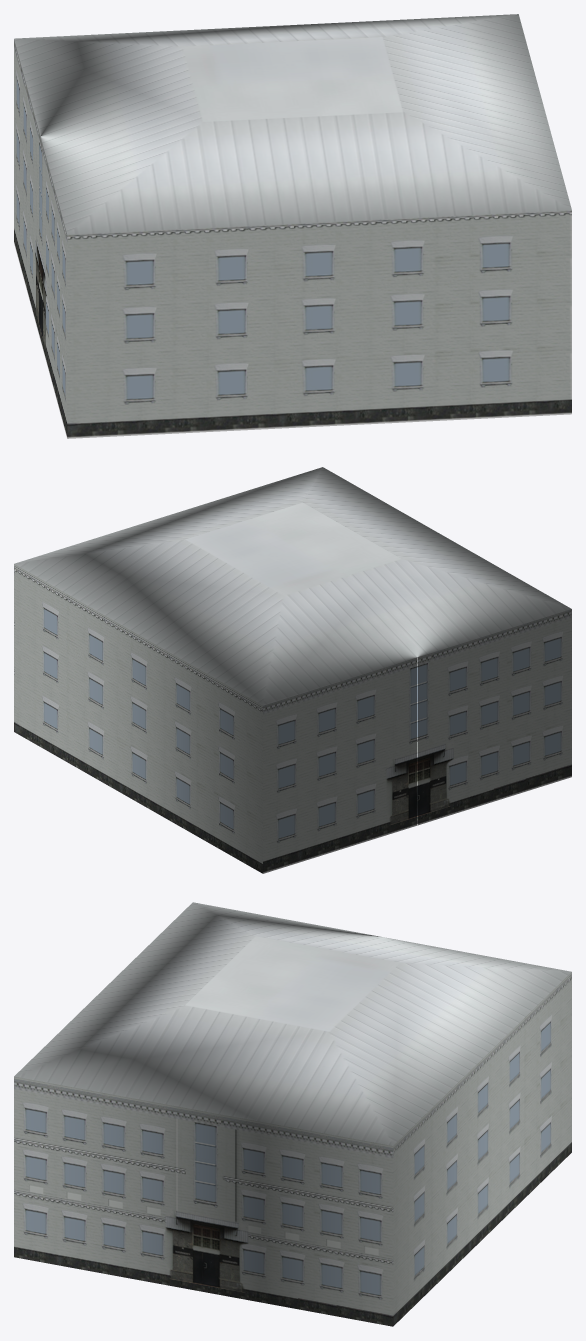
File: lp-building19.fbx
3 views of the same model, one above another, from view 1: azimuth 30°, elevation 25°; view 2: azimuth 150°, elevation 25°; view 3: azimuth 270°, elevation 25° (orthographic). The views are drawn at different scales.
Visible parts, largest first — view 1: 01houses.016; view 2: 01houses.016; view 3: 01houses.016.
Boxes of the visible parts, bbox=[...] form: 01houses.016: bbox=[14, 14, 571, 438]; 01houses.016: bbox=[14, 467, 571, 873]; 01houses.016: bbox=[14, 902, 571, 1326].
Bounding box in the file's own units: 1055 × 446 × 1020.
1 material, 1 textured.
